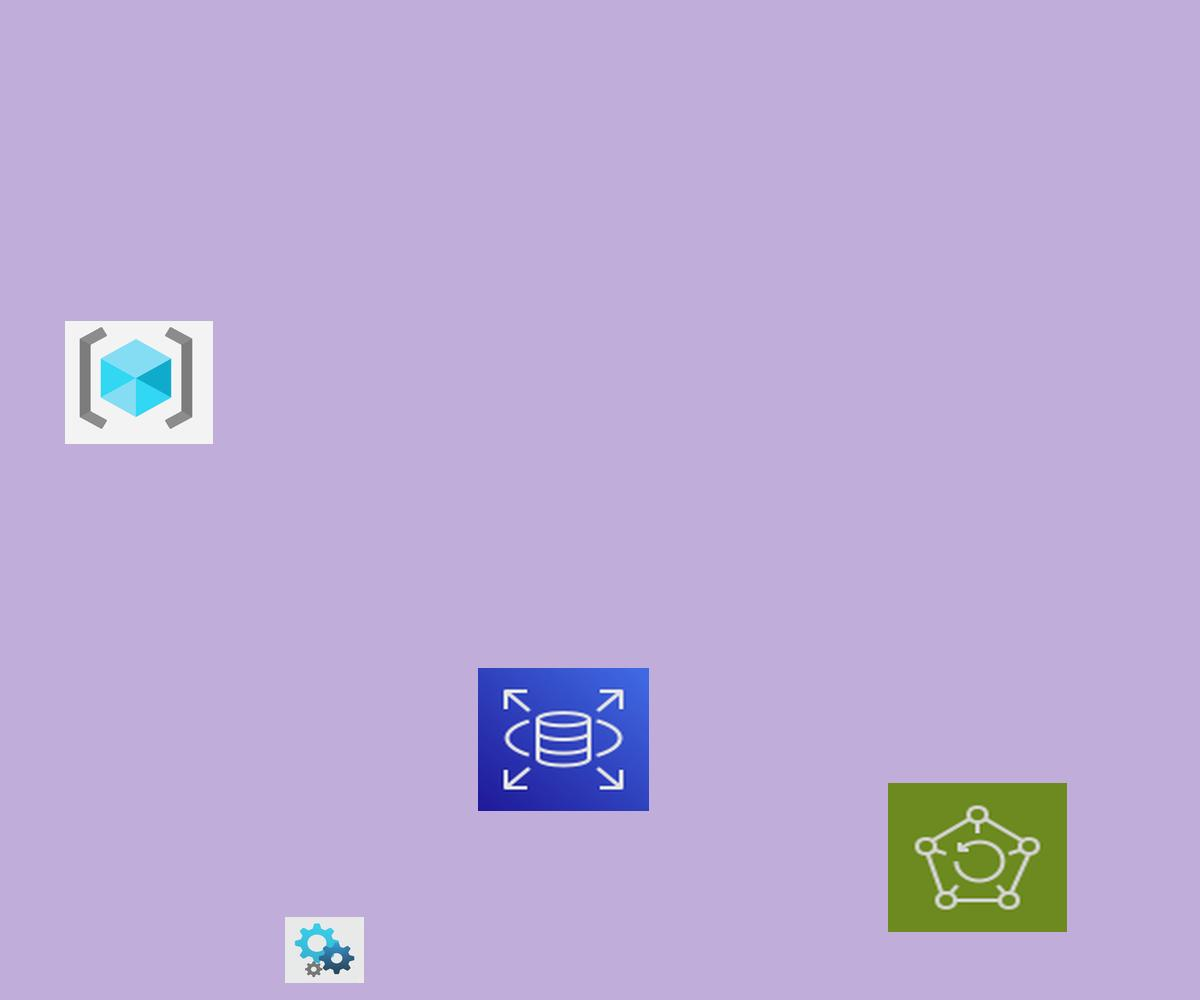AWS-Backup: (888, 783, 1067, 932)
AWS-RDS: (478, 668, 649, 811)
Azure_api: (285, 917, 364, 983)
Azure_resource_group: (65, 321, 213, 444)
